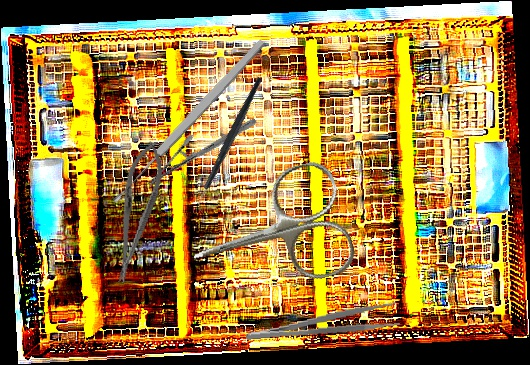Chopper: (159, 75, 302, 215)
Dressing Forceps: (244, 301, 400, 344)
Iris Scissors: (177, 157, 360, 311)
Needle Holder: (146, 88, 258, 217), (102, 137, 171, 287)
Surgical Spoon: (108, 36, 268, 207)
